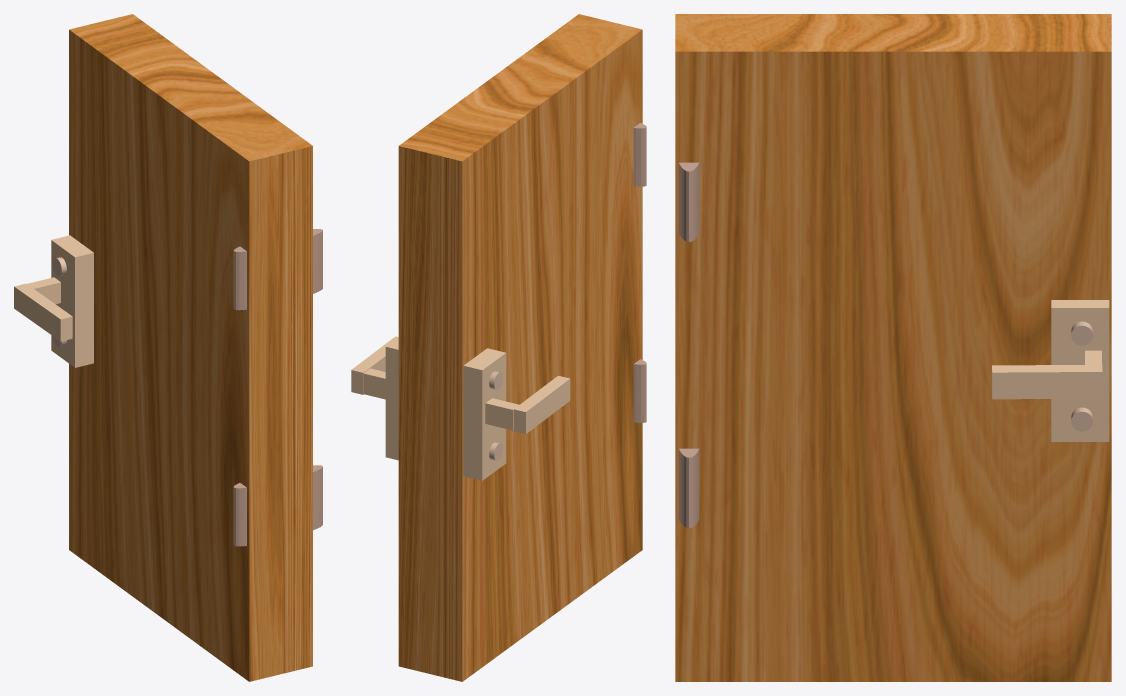
The model's file is Cua2.fbx.
3 views of the same model, side by side, from view 1: azimuth 30°, elevation 25°; view 2: azimuth 150°, elevation 25°; view 3: azimuth 270°, elevation 25° (orthographic). The views are drawn at different scales.
Visible parts, largest first — view 1: Cube, Cube.004, Cube.003, Cylinder.003, Cylinder.001, Cube.001; view 2: Cube, Cube.004, Cube.003, Cube.001, Cylinder.001, Cylinder.003, Cube.002; view 3: Cube, Cube.004, Cube.002, Cylinder.003, Cylinder.001.
Part boxes in pixels (box(x1,y1,x2,y2)): Cube: box(69, 14, 312, 681); Cube.004: box(51, 235, 93, 367); Cube.003: box(14, 283, 72, 341); Cylinder.003: box(233, 465, 322, 546); Cylinder.001: box(233, 229, 322, 310); Cube.001: box(27, 277, 60, 304); Cube: box(398, 14, 642, 681); Cube.004: box(385, 337, 506, 480); Cube.003: box(513, 375, 570, 433); Cube.001: box(363, 368, 519, 430); Cylinder.001: box(633, 123, 646, 186); Cylinder.003: box(633, 359, 646, 422); Cube.002: box(351, 336, 398, 394); Cube: box(675, 14, 1111, 681); Cube.004: box(1051, 300, 1109, 441); Cube.002: box(992, 364, 1102, 399); Cylinder.003: box(679, 448, 699, 528); Cylinder.001: box(679, 162, 699, 241).
Bounding box in the file's own units: 1.92 × 5.45 × 3.42.
Materials: 9 (1 with a texture image).
